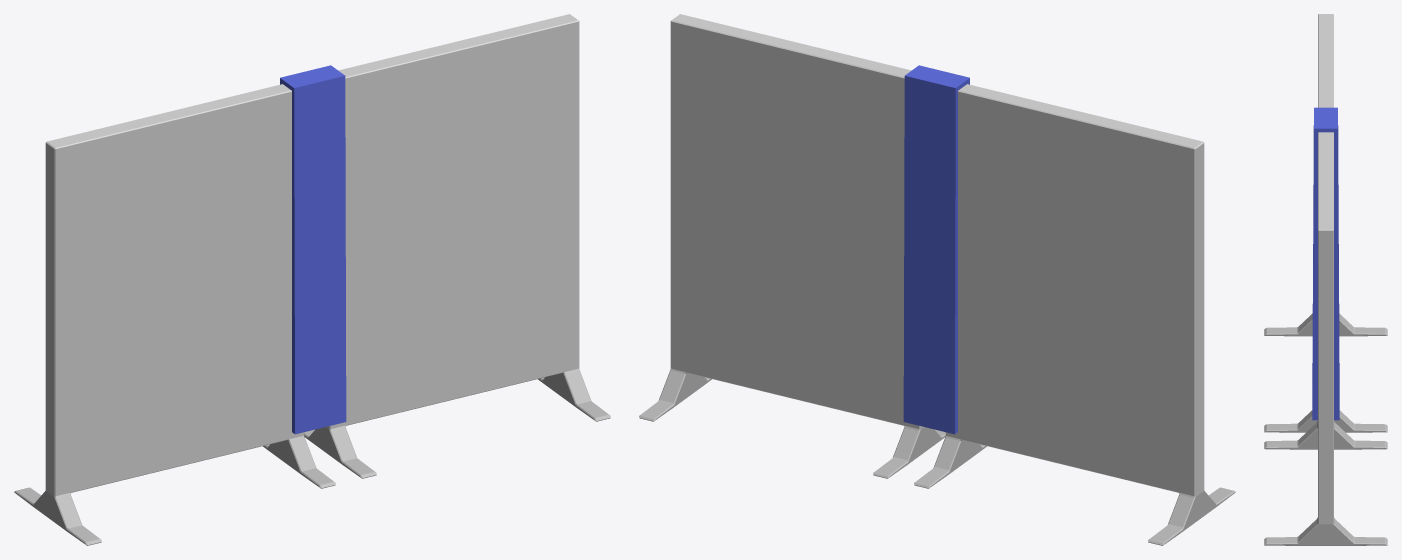
File: PartitionWall.fbx
3 views of the same model, side by side, from view 1: azimuth 30°, elevation 25°; view 2: azimuth 150°, elevation 25°; view 3: azimuth 270°, elevation 25° (orthographic). The views are drawn at different scales.
Visible parts, largest first — view 1: partition_wall; view 2: partition_wall; view 3: partition_wall.
Part boxes in pixels (x1,y1,x2,y2): partition_wall: (14,14,610,545); partition_wall: (639,14,1235,545); partition_wall: (1264,14,1387,545).
Size of the model in its own units: 3.15 by 0.7612 by 2.17.
